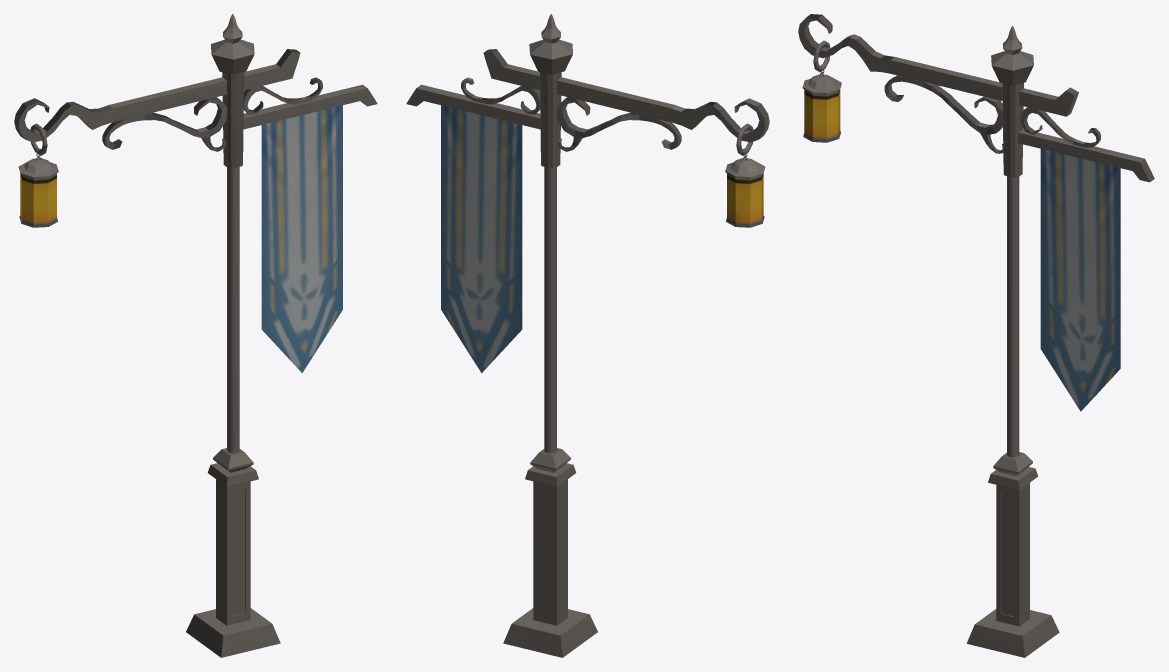
Rendered from LamparaGenshin.obj.
3 renders of one model, left to right at view 1: azimuth 30°, elevation 25°; view 2: azimuth 150°, elevation 25°; view 3: azimuth 330°, elevation 25°, orthographic.
Parts seen in each view (by area): view 1: Plane_008, Cube_106, Cube_109, Cube_112, Cube_105, Cylinder_040, Cube_113, Cube_110, Cube_114, Cube_115, Cylinder_041, Cube_111 (+2 smaller); view 2: Plane_008, Cube_106, Cube_109, Cube_112, Cube_105, Cylinder_040, Cube_113, Cube_110, Cube_114, Cube_115, Cylinder_041, Cube_111 (+2 smaller); view 3: Plane_008, Cube_106, Cube_109, Cube_112, Cube_105, Cylinder_040, Cube_113, Cube_114, Cube_110, Cube_115, Cylinder_041, Cube_111 (+2 smaller).
Boxes of the visible parts, bbox=[...] form: Plane_008: bbox=[261, 105, 342, 372]; Cube_106: bbox=[216, 479, 250, 625]; Cube_109: bbox=[227, 167, 239, 453]; Cube_112: bbox=[108, 49, 300, 122]; Cube_105: bbox=[186, 608, 280, 657]; Cylinder_040: bbox=[18, 158, 58, 227]; Cube_113: bbox=[243, 84, 377, 129]; Cube_110: bbox=[14, 98, 112, 142]; Cube_114: bbox=[222, 72, 244, 168]; Cube_115: bbox=[102, 97, 227, 151]; Cylinder_041: bbox=[211, 39, 254, 74]; Cube_111: bbox=[243, 77, 322, 114]; Plane_008: bbox=[441, 105, 522, 372]; Cube_106: bbox=[533, 479, 567, 625]; Cube_109: bbox=[544, 167, 556, 453]; Cube_112: bbox=[483, 49, 675, 122]; Cube_105: bbox=[503, 608, 597, 657]; Cylinder_040: bbox=[725, 158, 765, 227]; Cube_113: bbox=[406, 84, 540, 129]; Cube_110: bbox=[671, 98, 769, 142]; Cube_114: bbox=[539, 72, 561, 168]; Cube_115: bbox=[556, 97, 681, 151]; Cylinder_041: bbox=[529, 39, 572, 74]; Cube_111: bbox=[461, 77, 540, 114]; Plane_008: bbox=[1040, 149, 1120, 411]; Cube_106: bbox=[996, 483, 1029, 626]; Cube_109: bbox=[1007, 176, 1019, 457]; Cube_112: bbox=[890, 57, 1078, 116]; Cube_105: bbox=[966, 609, 1059, 657]; Cylinder_040: bbox=[802, 74, 841, 142]; Cube_113: bbox=[1018, 129, 1154, 182]; Cube_114: bbox=[1002, 82, 1023, 177]; Cube_110: bbox=[798, 14, 894, 73]; Cube_115: bbox=[884, 75, 1003, 153]; Cylinder_041: bbox=[991, 51, 1033, 85]; Cube_111: bbox=[1020, 107, 1100, 147].
Bounding box in the file's own units: 12.97 × 21.55 × 2.22.
